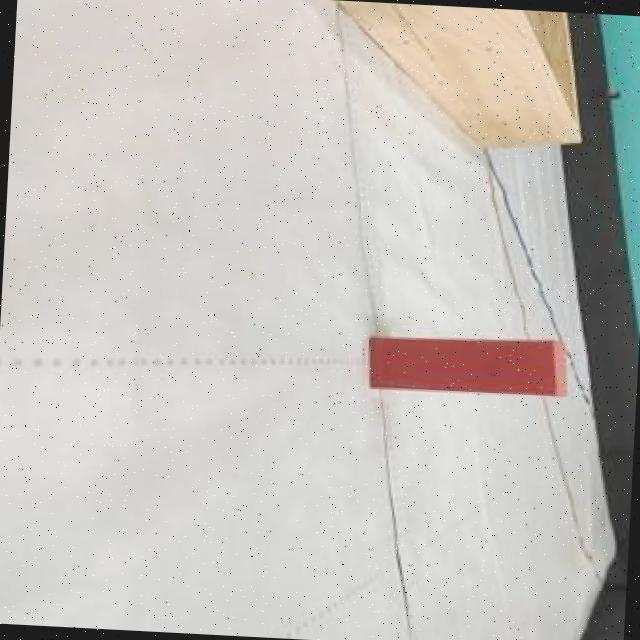redbox: (367, 332, 570, 398)
